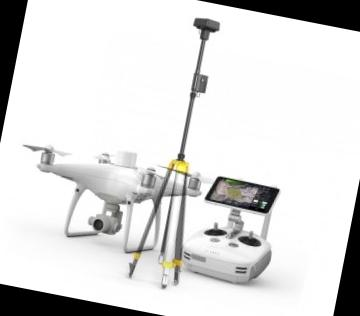drone: (7, 125, 232, 265)
